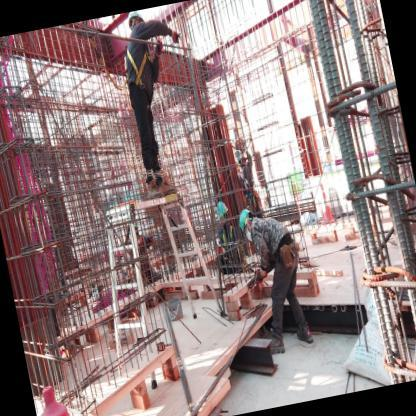safety-shoe: (291, 320, 320, 351), (262, 333, 288, 363), (144, 175, 165, 207), (155, 174, 175, 198)
